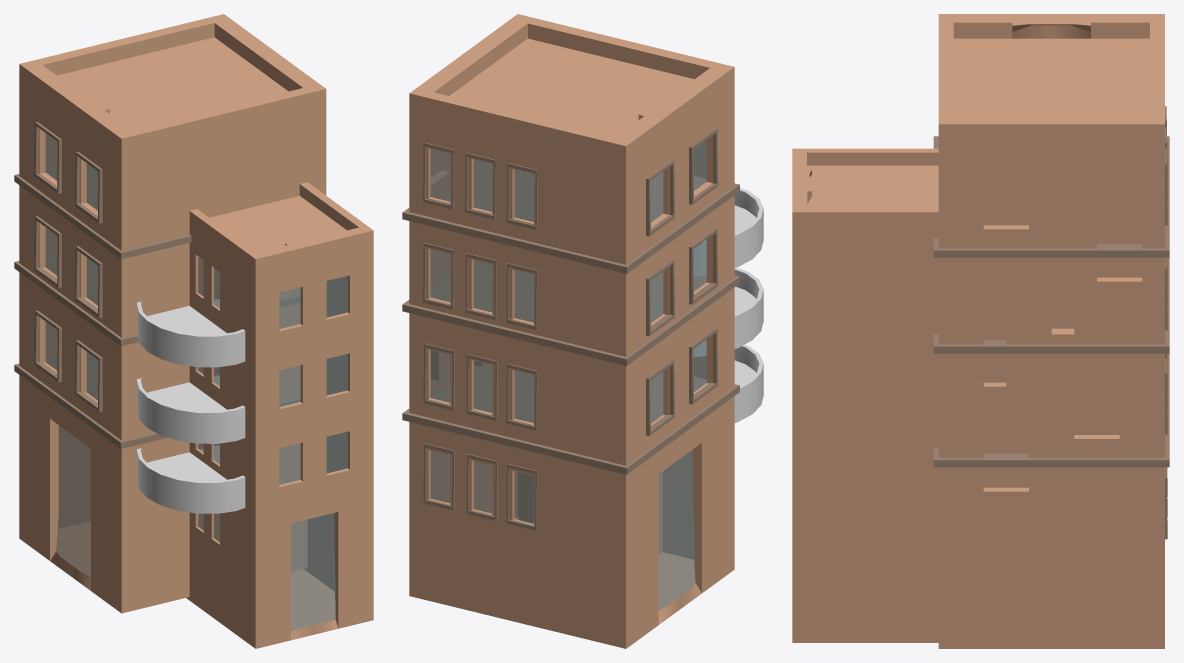
Rendered from town- build3.fbx.
3 renders of one model, left to right at view 1: azimuth 30°, elevation 25°; view 2: azimuth 150°, elevation 25°; view 3: azimuth 270°, elevation 25°, orthographic. The views are drawn at different scales.
Parts seen in each view (by area): view 1: pasted__group36_pasted__pPlane8, pasted__group36_pasted__pPlane9, pasted__pCylinder8, pasted__pCylinder6, pasted__pCylinder7, pasted__pCube29, pasted__pasted__pasted__pCube29, pasted__pasted__pCube29, pasted__group106_pasted__pCube45, pasted__group106_pasted__pCube43, pasted__group106_pasted__pCube44, pasted__group106_pasted__pCube46 (+2 smaller); view 2: pasted__group36_pasted__pPlane8, pasted__pasted__pCube29, pasted__pasted__pasted__pCube29, pasted__pCube29, pasted__pCylinder6, pasted__pCylinder7, pasted__pCylinder8, pasted__group36_pasted__pPlane9, pasted__group106_pasted__pCube44, pasted__group106_pasted__pCube46, pasted__group106_pasted__pCube45, pasted__group106_pasted__pCube43 (+14 smaller); view 3: pasted__group36_pasted__pPlane8, pasted__group36_pasted__pPlane9, pasted__pasted__pasted__pCube29, pasted__pCube29, pasted__pasted__pCube29.
Boxes of the visible parts, <box> form: pasted__group36_pasted__pPlane8: <box>19,14,326,613</box>; pasted__group36_pasted__pPlane9: <box>186,182,373,648</box>; pasted__pCylinder8: <box>136,444,245,513</box>; pasted__pCylinder6: <box>136,283,245,367</box>; pasted__pCylinder7: <box>136,367,245,443</box>; pasted__pCube29: <box>14,163,191,259</box>; pasted__pasted__pasted__pCube29: <box>14,352,300,448</box>; pasted__pasted__pCube29: <box>14,254,300,346</box>; pasted__group106_pasted__pCube45: <box>34,310,61,382</box>; pasted__group106_pasted__pCube43: <box>34,216,61,287</box>; pasted__group106_pasted__pCube44: <box>75,246,102,317</box>; pasted__group106_pasted__pCube46: <box>75,340,102,412</box>; pasted__group36_pasted__pPlane8: <box>409,14,734,648</box>; pasted__pasted__pCube29: <box>402,260,739,365</box>; pasted__pasted__pasted__pCube29: <box>402,364,739,474</box>; pasted__pCube29: <box>402,161,739,273</box>; pasted__pCylinder6: <box>661,188,763,275</box>; pasted__pCylinder7: <box>693,267,763,356</box>; pasted__pCylinder8: <box>734,344,763,422</box>; pasted__group36_pasted__pPlane9: <box>519,472,662,553</box>; pasted__group106_pasted__pCube44: <box>689,228,718,304</box>; pasted__group106_pasted__pCube46: <box>689,328,718,404</box>; pasted__group106_pasted__pCube45: <box>646,360,674,435</box>; pasted__group106_pasted__pCube43: <box>646,260,674,335</box>; pasted__group36_pasted__pPlane8: <box>938,14,1164,648</box>; pasted__group36_pasted__pPlane9: <box>792,148,938,642</box>; pasted__pasted__pasted__pCube29: <box>933,353,1169,467</box>; pasted__pCube29: <box>933,136,1169,257</box>; pasted__pasted__pCube29: <box>933,257,1169,353</box>.
Size of the model in its own units: 1.13 by 2.42 by 1.57.
